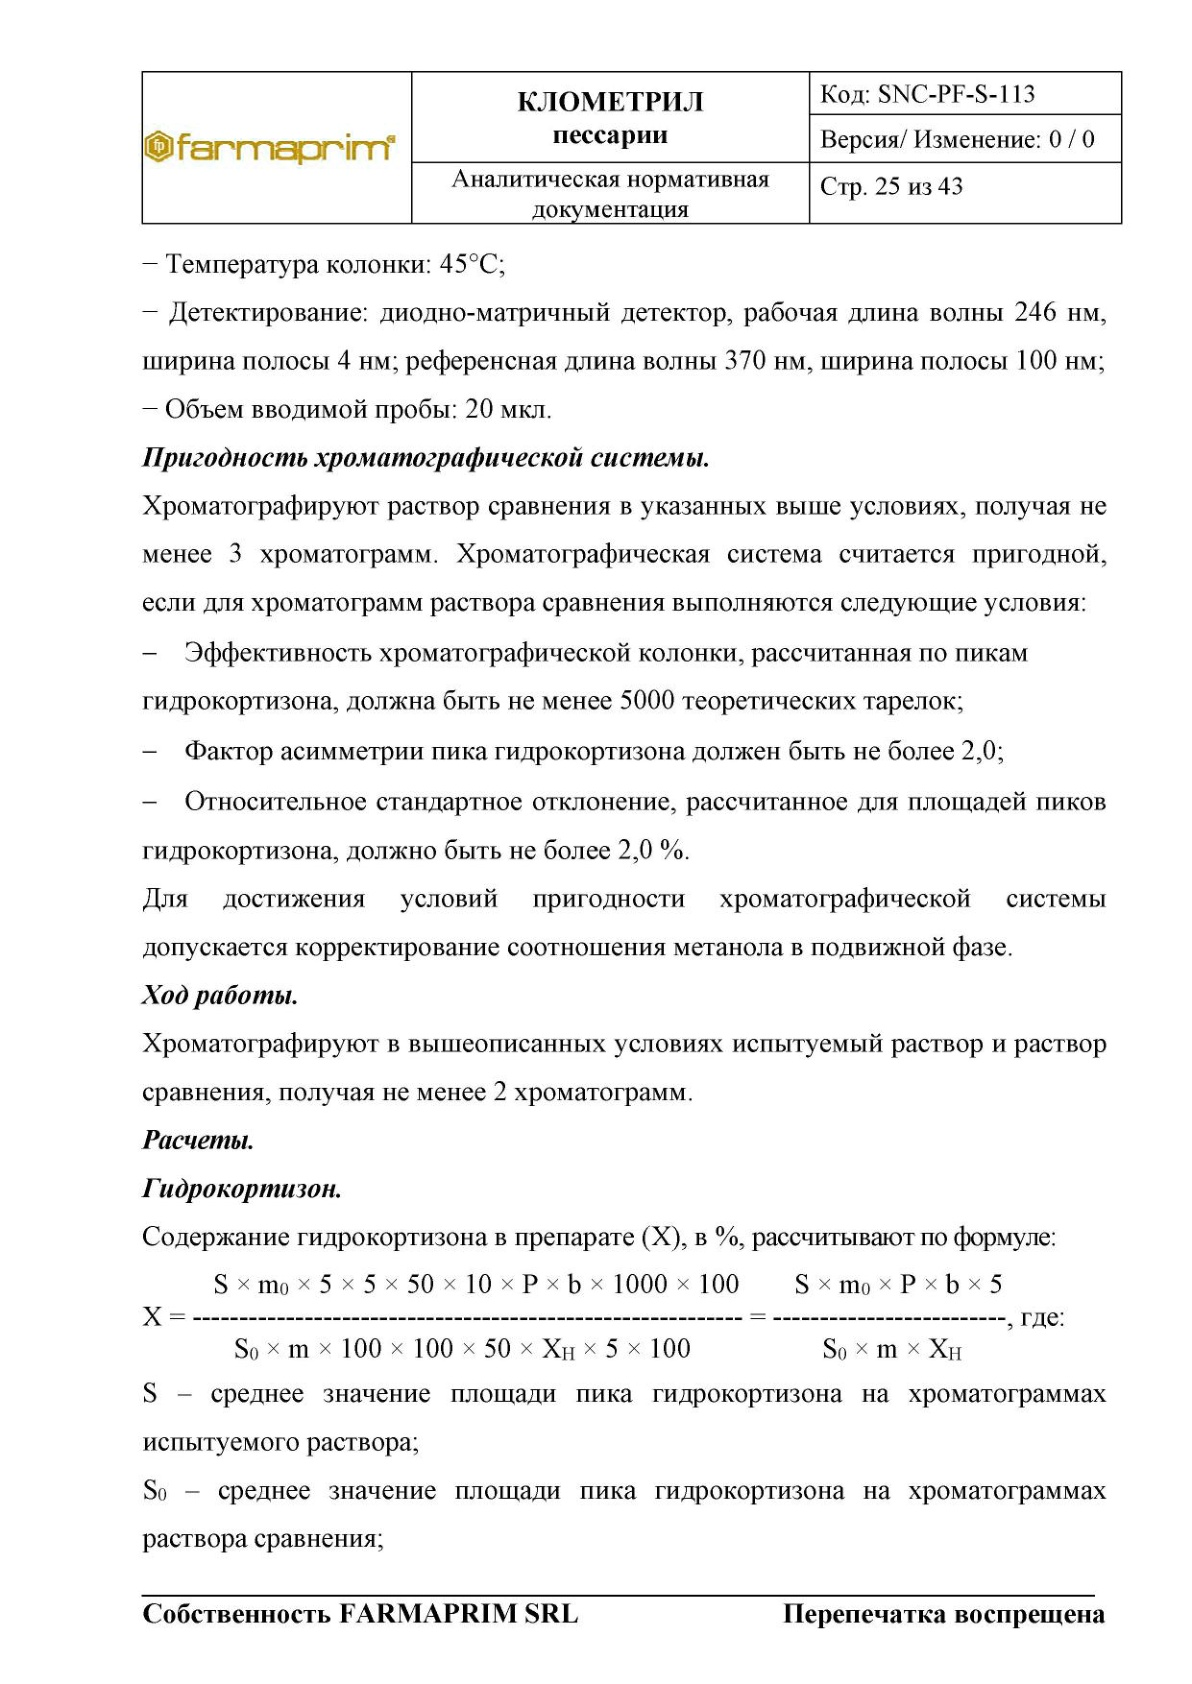merged_cells: (141, 70, 1124, 224)
